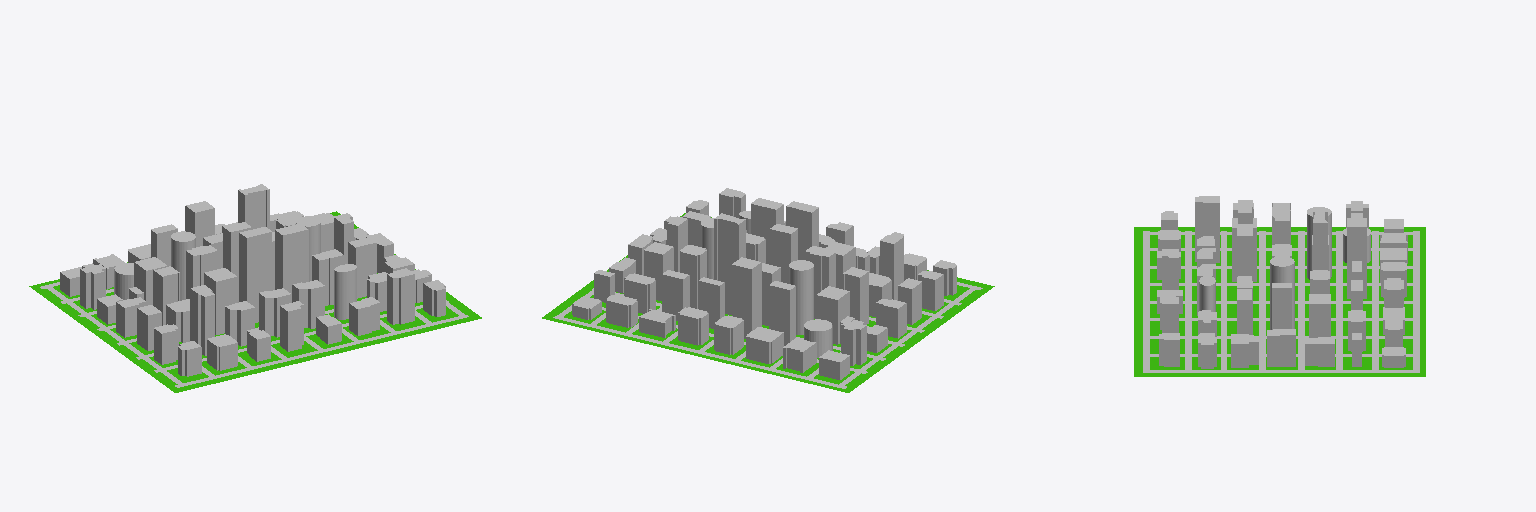
Rendered from city.obj.
3 views of the same model, side by side, from view 1: azimuth 30°, elevation 25°; view 2: azimuth 150°, elevation 25°; view 3: azimuth 270°, elevation 25° (orthographic).
Visible parts, largest first — view 1: Plane, Plane.003, building_006_building_006_mesh, building_009.002_building_009_mesh.002, building_008.002_building_008_mesh.002, building_007.001_building_007_mesh.001, building_001_building_001_mesh, building_007_building_007_mesh, building_021_building_021_mesh, building_002_building_002_mesh.001, building_003.002_building_003_mesh.002, building_017_building_017_mesh.001 (+25 smaller); view 2: Plane, Plane.003, building_007_building_007_mesh, building_004_building_004_mesh, building_030_building_030_mesh.001, building_019_building_019_mesh, building_006_building_006_mesh, building_037_building_037_mesh, building_026_building_026_mesh.001, building_007.001_building_007_mesh.001, building_020_building_020_mesh, building_003.001_building_003_mesh.001 (+28 smaller); view 3: Plane, Plane.003, building_004_building_004_mesh, building_007.001_building_007_mesh.001, building_001.001_building_001_mesh.001, building_024_building_024_mesh, building_010_building_010_mesh, building_015_building_015_mesh, building_007_building_007_mesh, building_004.002_building_004_mesh.002, building_031_building_031_mesh, building_009.002_building_009_mesh.002 (+12 smaller).
Boxes of the visible parts, box(x1,y1,x2,y2) form: Plane: box(29, 211, 481, 392); Plane.003: box(40, 282, 468, 387); building_006_building_006_mesh: box(239, 227, 271, 322); building_009.002_building_009_mesh.002: box(275, 224, 308, 302); building_008.002_building_008_mesh.002: box(387, 268, 414, 324); building_007.001_building_007_mesh.001: box(190, 285, 214, 355); building_001_building_001_mesh: box(204, 268, 236, 334); building_007_building_007_mesh: box(238, 184, 269, 229); building_021_building_021_mesh: box(348, 237, 376, 298); building_002_building_002_mesh.001: box(334, 264, 356, 319); building_003.002_building_003_mesh.002: box(280, 301, 303, 351); building_017_building_017_mesh.001: box(292, 280, 324, 328); Plane: box(542, 213, 994, 392); Plane.003: box(553, 282, 982, 388); building_007_building_007_mesh: box(714, 213, 745, 314); building_004_building_004_mesh: box(732, 257, 761, 338); building_030_building_030_mesh.001: box(769, 281, 795, 345); building_019_building_019_mesh: box(789, 260, 813, 334); building_006_building_006_mesh: box(786, 201, 818, 259); building_037_building_037_mesh: box(770, 224, 797, 283); building_026_building_026_mesh.001: box(816, 286, 849, 344); building_007.001_building_007_mesh.001: box(880, 232, 903, 300); building_020_building_020_mesh: box(746, 327, 783, 363); building_003.001_building_003_mesh.001: box(842, 267, 868, 324); Plane: box(1134, 227, 1425, 376); Plane.003: box(1143, 231, 1419, 372); building_004_building_004_mesh: box(1347, 218, 1366, 298); building_007.001_building_007_mesh.001: box(1195, 196, 1219, 262); building_001.001_building_001_mesh.001: box(1267, 329, 1295, 366); building_024_building_024_mesh: box(1309, 294, 1330, 337); building_010_building_010_mesh: box(1272, 283, 1291, 329); building_015_building_015_mesh: box(1231, 334, 1258, 367); building_007_building_007_mesh: box(1313, 211, 1327, 269); building_004.002_building_004_mesh.002: box(1305, 337, 1334, 366); building_031_building_031_mesh: box(1270, 256, 1294, 329); building_009.002_building_009_mesh.002: box(1237, 224, 1252, 280).
Size of the model in its own units: 219 by 64.64 by 180.